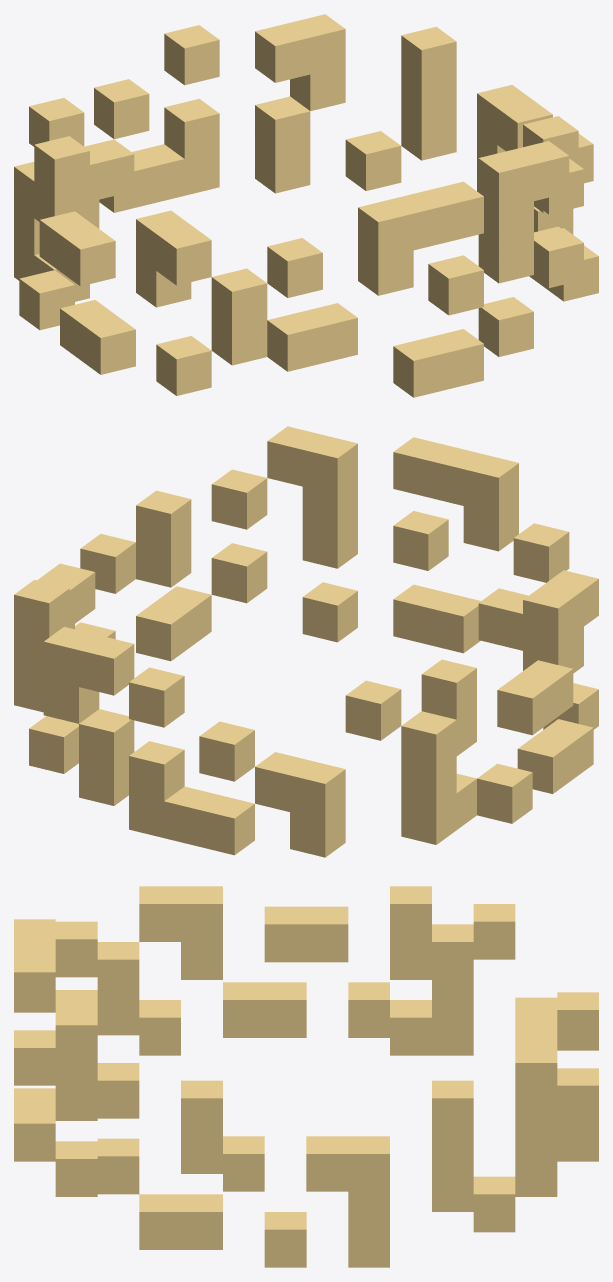
File: BS_Pillar_Ring_4.fbx
The picture shows the model from 3 angles, top to bottom: view 1: azimuth 30°, elevation 25°; view 2: azimuth 150°, elevation 25°; view 3: azimuth 270°, elevation 25°; orthographic projection. The views are drawn at different scales.
Visible parts, largest first — view 1: BS_Pillar_Ring_4; view 2: BS_Pillar_Ring_4; view 3: BS_Pillar_Ring_4.
Boxes of the visible parts, x1,y1,x2,y2 form: BS_Pillar_Ring_4: [14, 14, 598, 397]; BS_Pillar_Ring_4: [14, 426, 598, 857]; BS_Pillar_Ring_4: [14, 886, 598, 1267].
Bounding box in the file's own units: 35 × 35 × 12.5.
